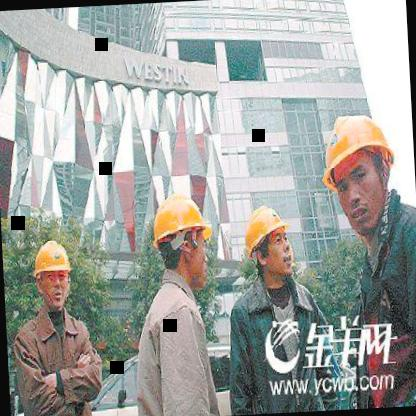helmet: (314, 104, 402, 246), (147, 187, 214, 296), (240, 199, 298, 287), (27, 233, 76, 316)
